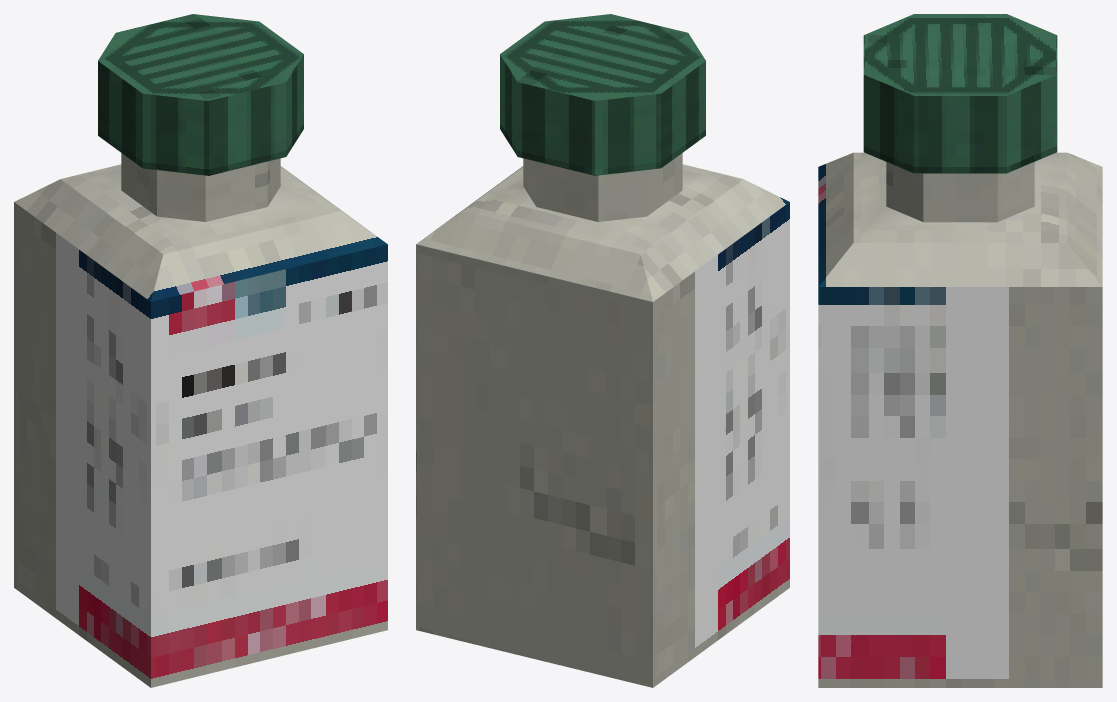
Rendered from Med_18.glb.
3 renders of one model, left to right at view 1: azimuth 30°, elevation 25°; view 2: azimuth 150°, elevation 25°; view 3: azimuth 270°, elevation 25°, orthographic. The views are drawn at different scales.
Visible parts, largest first — view 1: Med_18; view 2: Med_18; view 3: Med_18.
Boxes of the visible parts, box(x1,y1,x2,y2) form: Med_18: box(14, 14, 387, 687); Med_18: box(416, 14, 789, 687); Med_18: box(818, 14, 1102, 687).
Size of the model in its own units: 3.76 by 8.37 by 3.76.
1 material, 1 textured.
